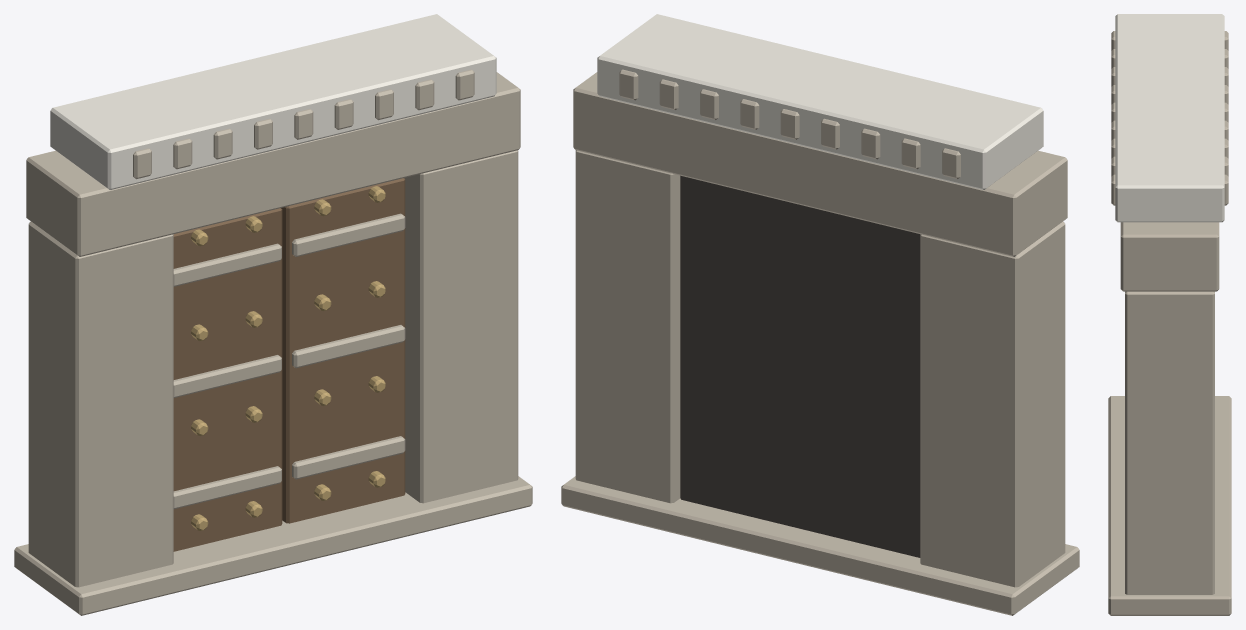
The model's file is TC_ENV_CarvedDoorway_V1.glb.
3 renders of one model, left to right at view 1: azimuth 30°, elevation 25°; view 2: azimuth 150°, elevation 25°; view 3: azimuth 270°, elevation 25°, orthographic. The views are drawn at different scales.
Parts seen in each view (by area): view 1: TC_ENV_CarvedDoorway_V1; view 2: TC_ENV_CarvedDoorway_V1; view 3: TC_ENV_CarvedDoorway_V1.
Boxes of the visible parts, x1,y1,x2,y2 form: TC_ENV_CarvedDoorway_V1: (14,14,532,615); TC_ENV_CarvedDoorway_V1: (561,14,1079,615); TC_ENV_CarvedDoorway_V1: (1108,14,1231,615).
Size of the model in its own units: 3.5 by 3.36 by 0.9.
